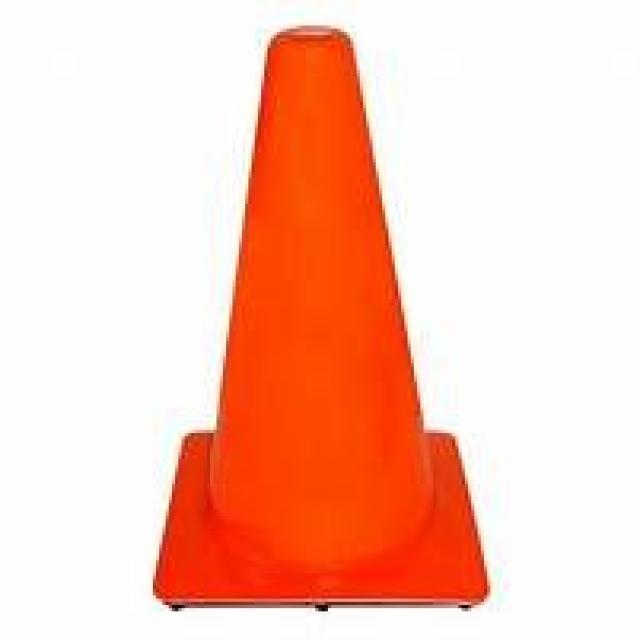traffic cone: (144, 16, 499, 618)
